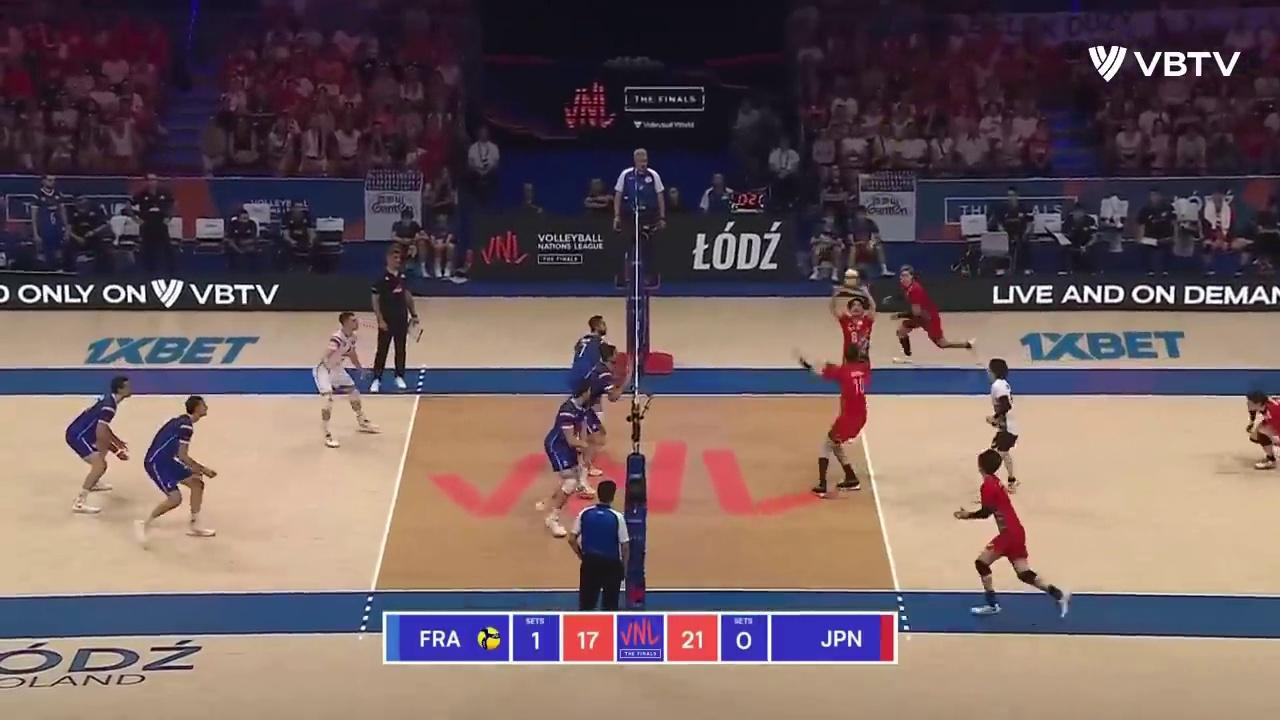ball: (841, 270, 861, 288)
